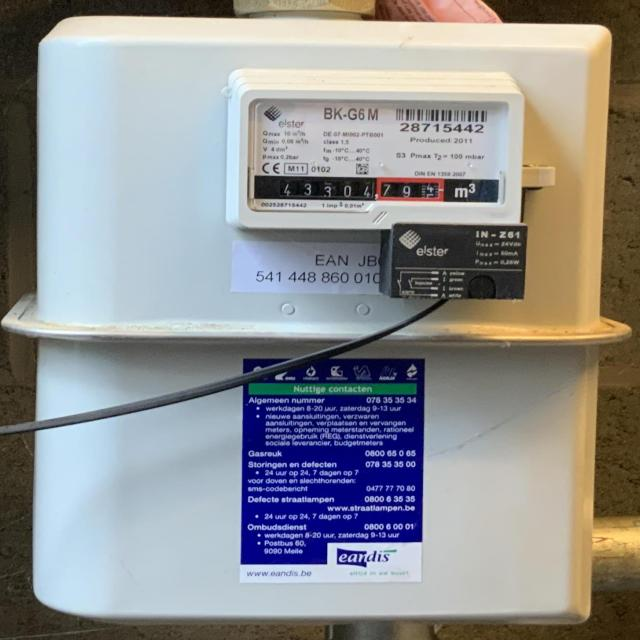gaz_meter: (251, 98, 499, 205)
indication: (275, 175, 445, 203)
